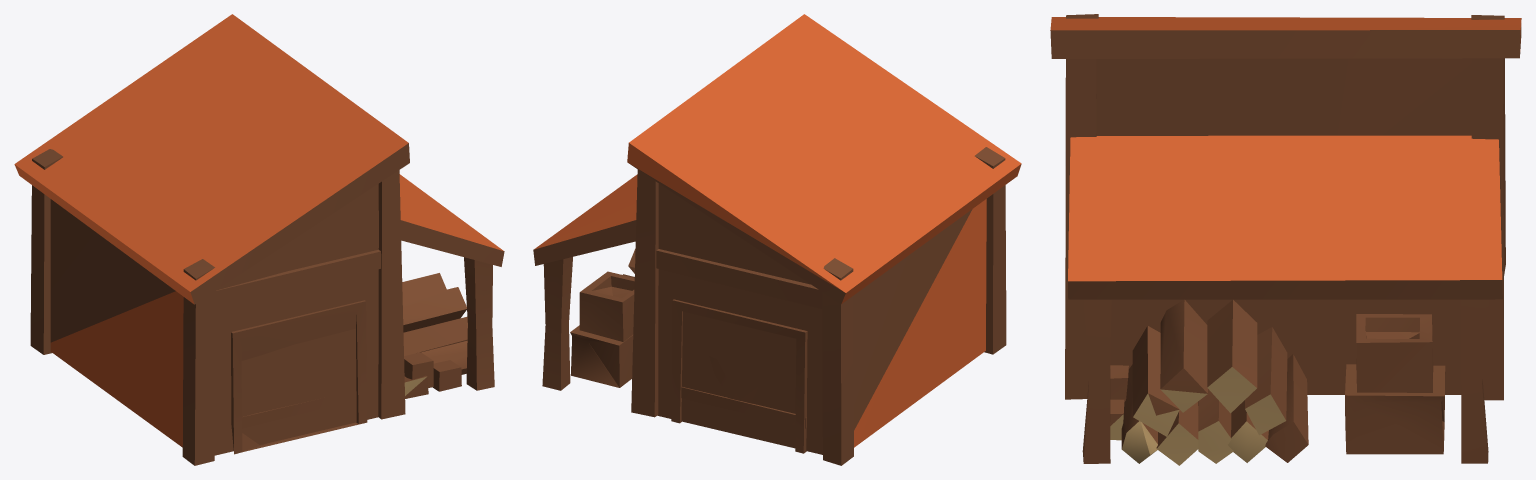
Rendered from supply22.2.glb.
The picture shows the model from 3 angles, left to right: view 1: azimuth 30°, elevation 25°; view 2: azimuth 150°, elevation 25°; view 3: azimuth 270°, elevation 25°; orthographic projection. The views are drawn at different scales.
Visible parts, largest first — view 1: supply22; view 2: supply22; view 3: supply22.
Boxes of the visible parts, left/top/right/bottom form: supply22: left=14, top=14, right=504, bottom=465; supply22: left=533, top=14, right=1021, bottom=465; supply22: left=1050, top=14, right=1521, bottom=465.
Bounding box in the file's own units: 1.9 × 1.58 × 1.81.
